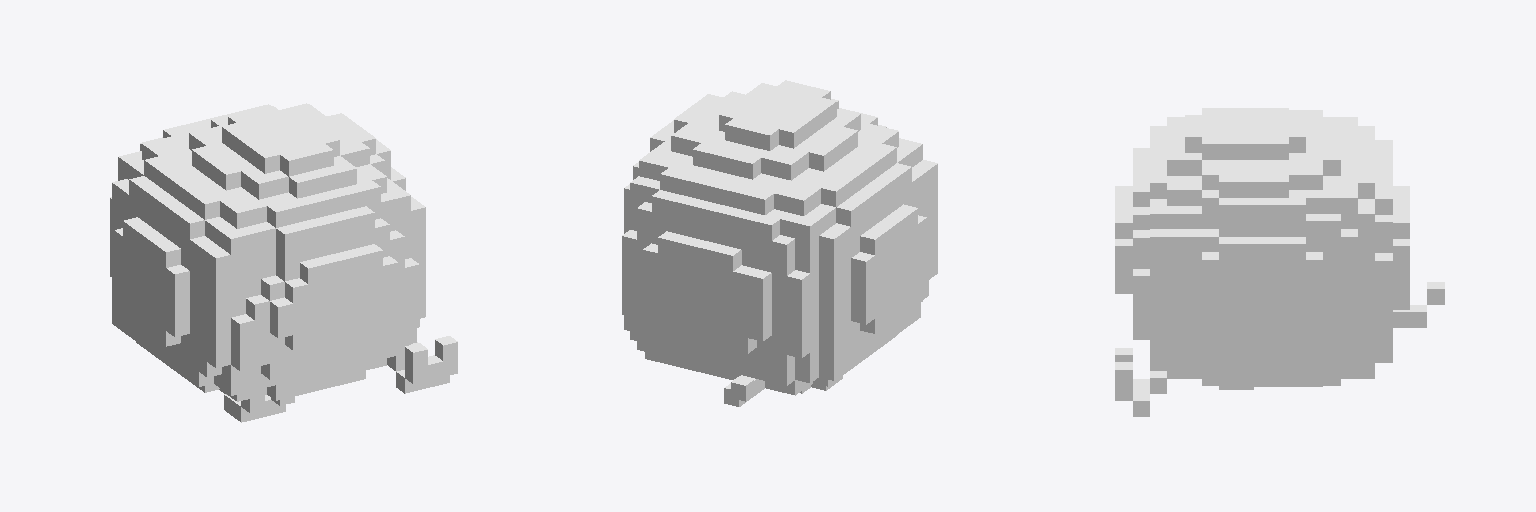
The model's file is PookaInflate2Cardinal.obj.
3 views of the same model, side by side, from view 1: azimuth 30°, elevation 25°; view 2: azimuth 150°, elevation 25°; view 3: azimuth 270°, elevation 25° (orthographic).
Parts seen in each view (by area): view 1: Pooka; view 2: Pooka; view 3: Pooka.
Boxes of the visible parts, x1=… form: Pooka: x1=110, y1=103, x2=457, y2=422; Pooka: x1=622, y1=80, x2=937, y2=406; Pooka: x1=1115, y1=108, x2=1444, y2=416.
Size of the model in its own units: 1.6 by 1.7 by 1.9.